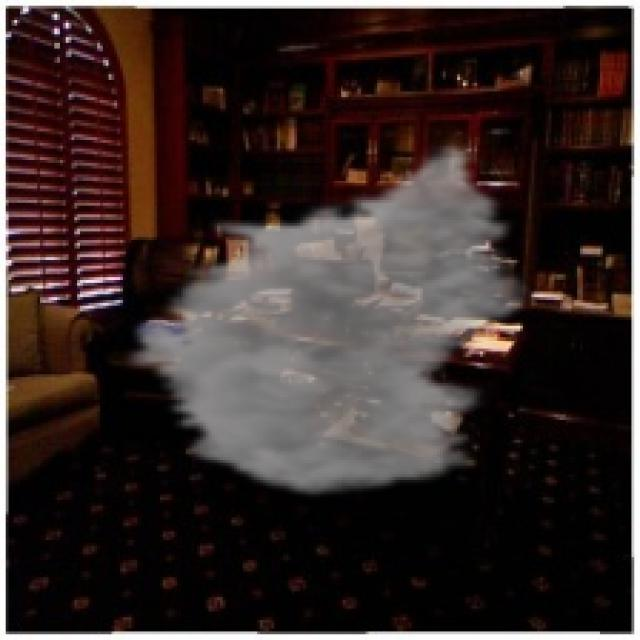smoke: (117, 140, 540, 500)
